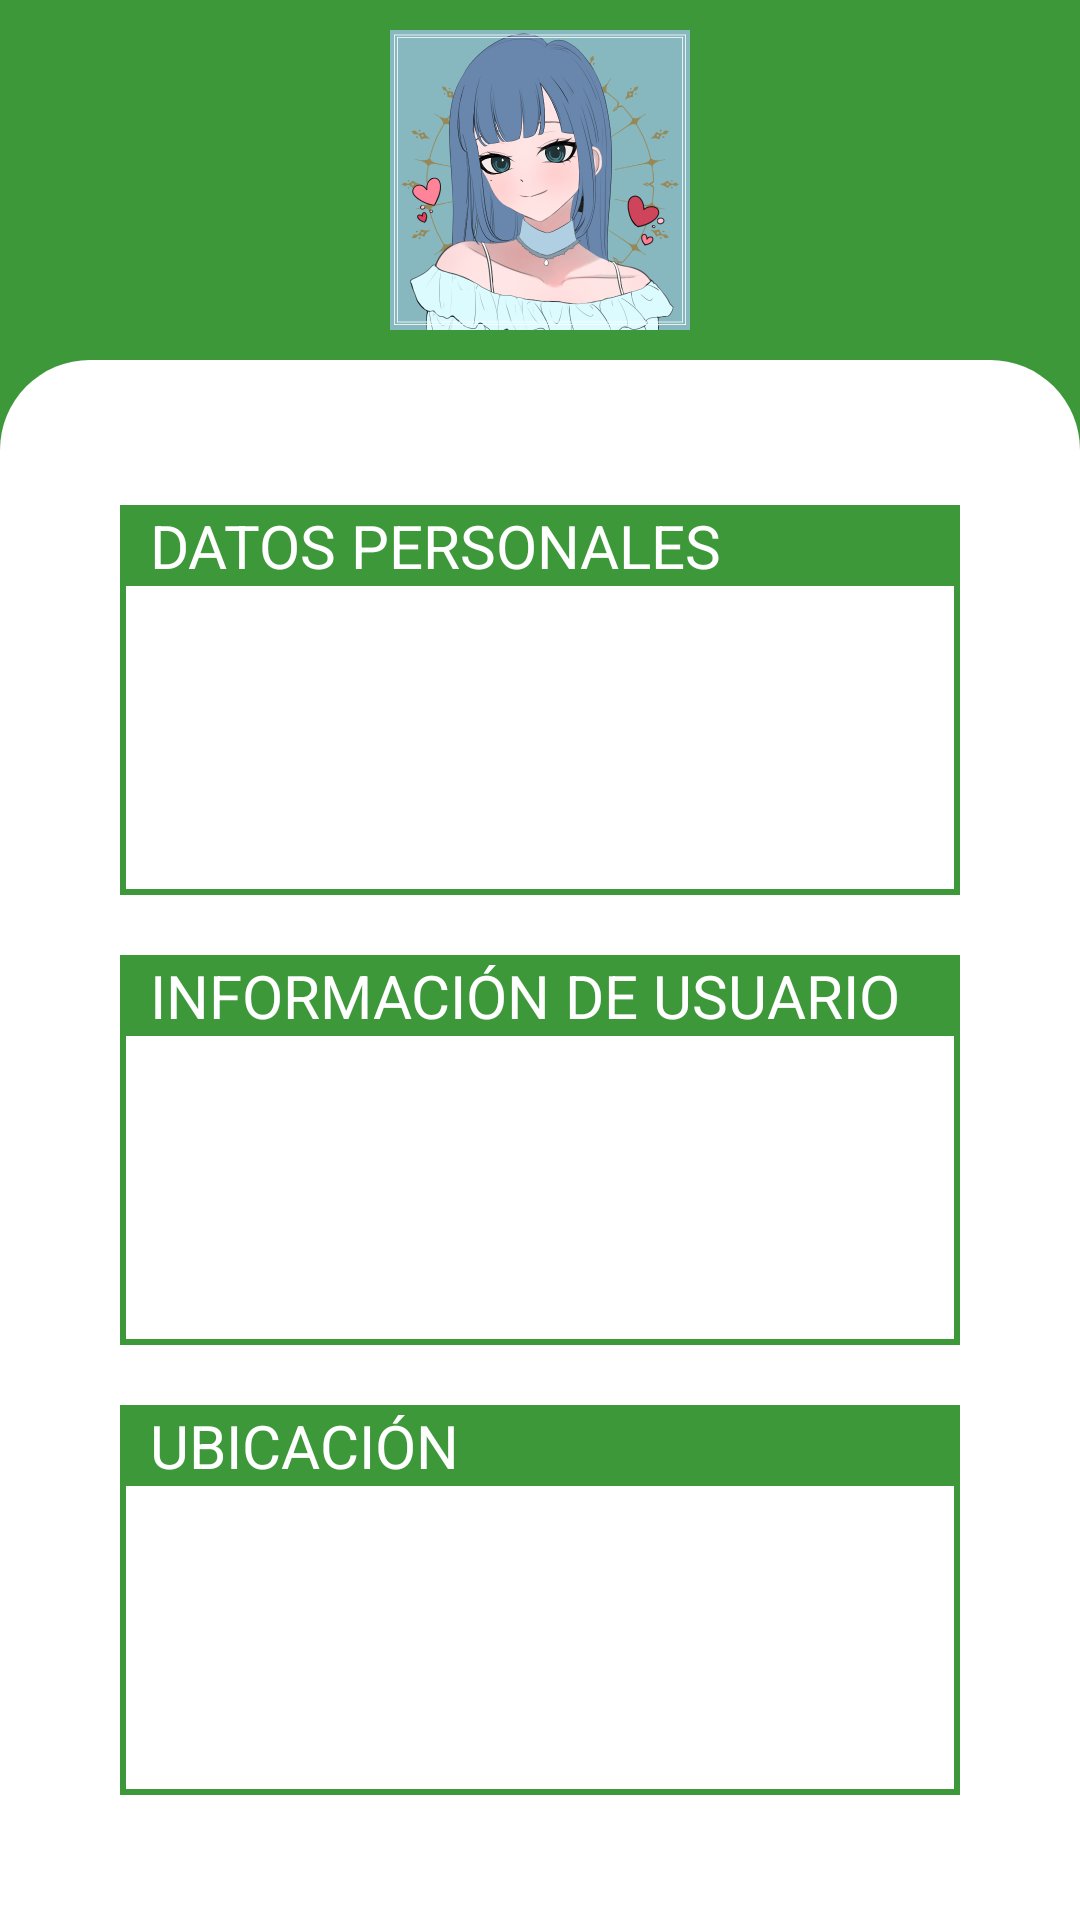

Where to tap for icons on this 1080 × 1920 app screen, as [x,y]:
user: [540,180]
